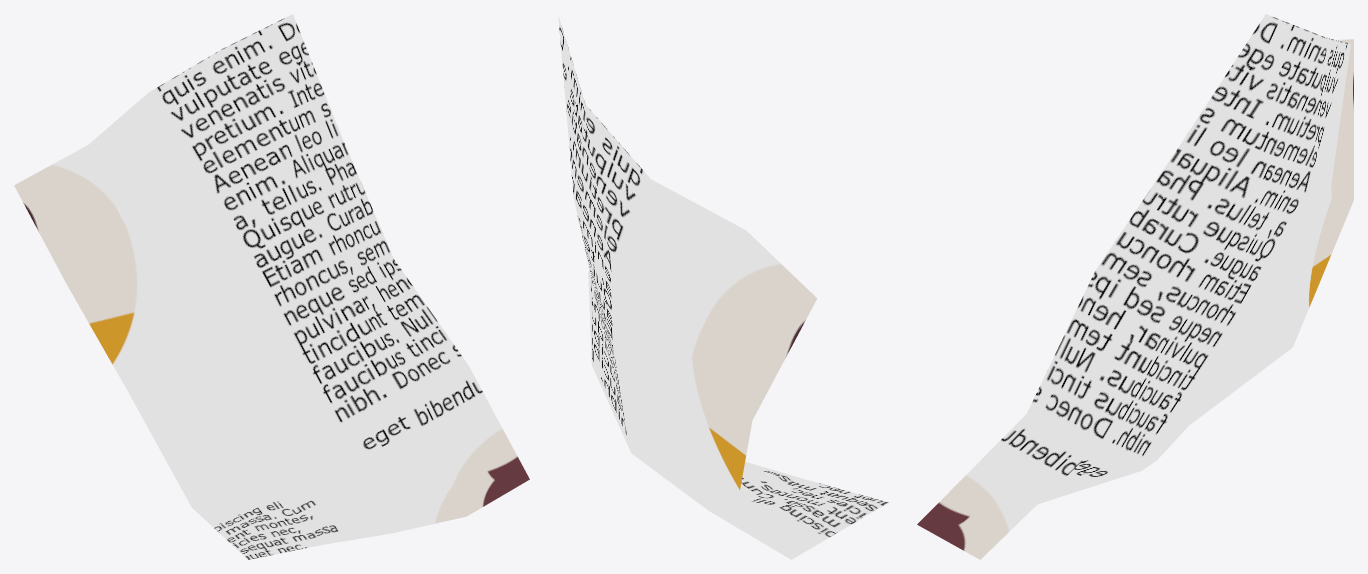
3 renders of one model, left to right at view 1: azimuth 30°, elevation 25°; view 2: azimuth 150°, elevation 25°; view 3: azimuth 270°, elevation 25°, orthographic. The views are drawn at different scales.
Parts seen in each view (by area): view 1: Plane.027; view 2: Plane.027; view 3: Plane.027.
Part boxes in pixels (left/top/right/bottom): Plane.027: left=14, top=14, right=529, bottom=559; Plane.027: left=558, top=15, right=888, bottom=559; Plane.027: left=917, top=14, right=1353, bottom=559.
Bounding box in the file's own units: 0.6522 × 0.8041 × 0.6171.
Materials: 1 (1 with a texture image).
